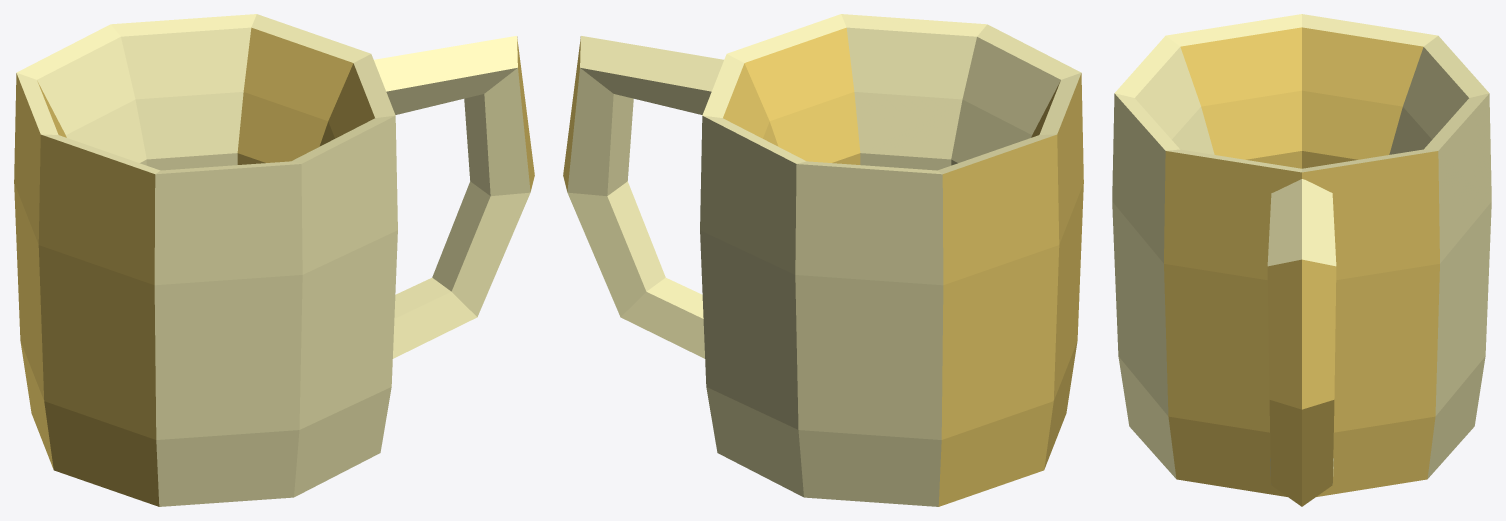
File: Mug.fbx
The picture shows the model from 3 angles, left to right: view 1: azimuth 30°, elevation 25°; view 2: azimuth 150°, elevation 25°; view 3: azimuth 270°, elevation 25°; orthographic projection.
Visible parts, largest first — view 1: Mug; view 2: Mug; view 3: Mug.
Boxes of the visible parts, <box> form: Mug: <box>14,14,534,506</box>; Mug: <box>563,14,1083,506</box>; Mug: <box>1112,14,1491,506</box>.
Size of the model in its own units: 24.95 by 16.84 by 16.83.
